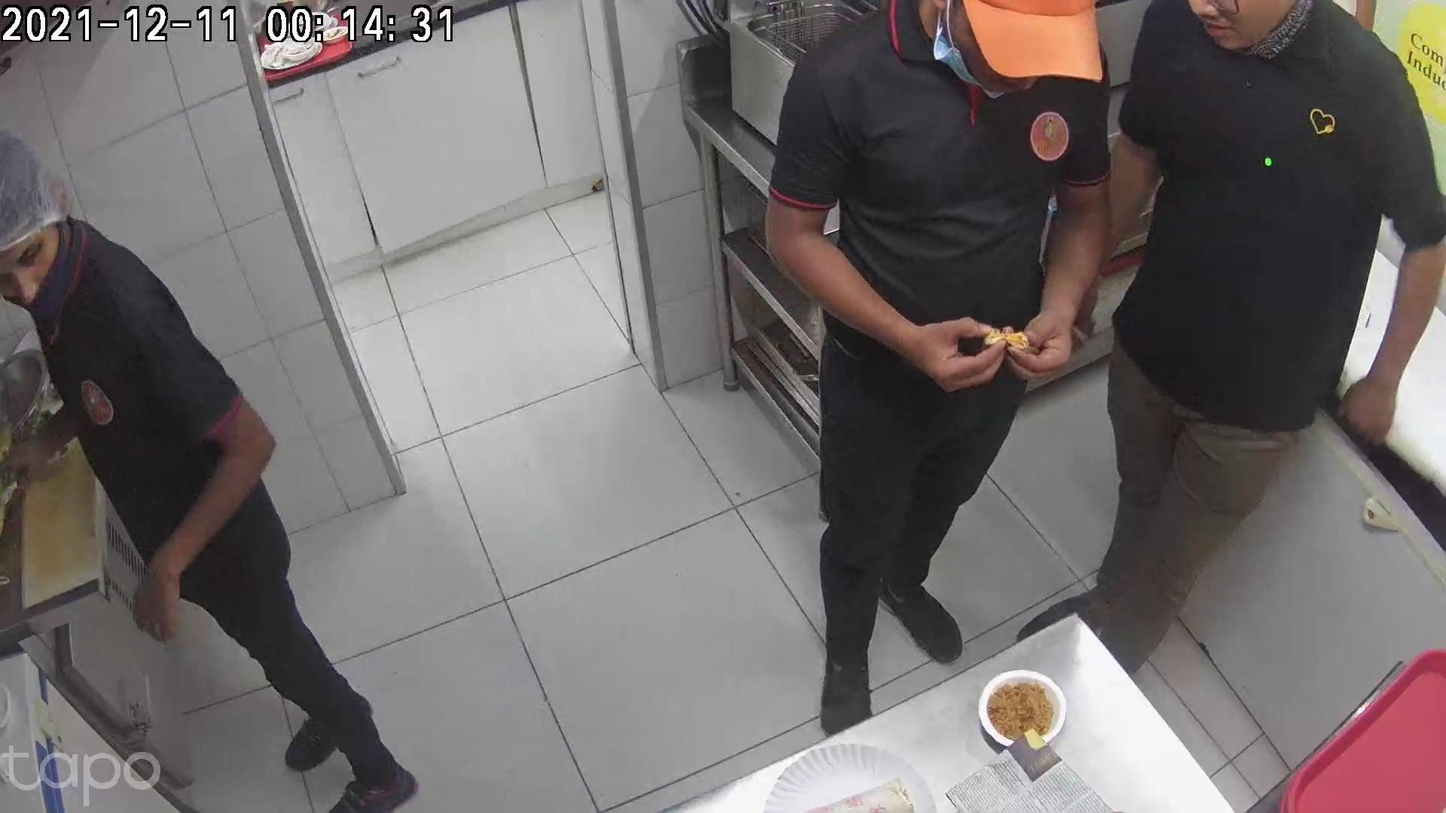no_gloves: (418, 373, 528, 469), (587, 311, 666, 421)
